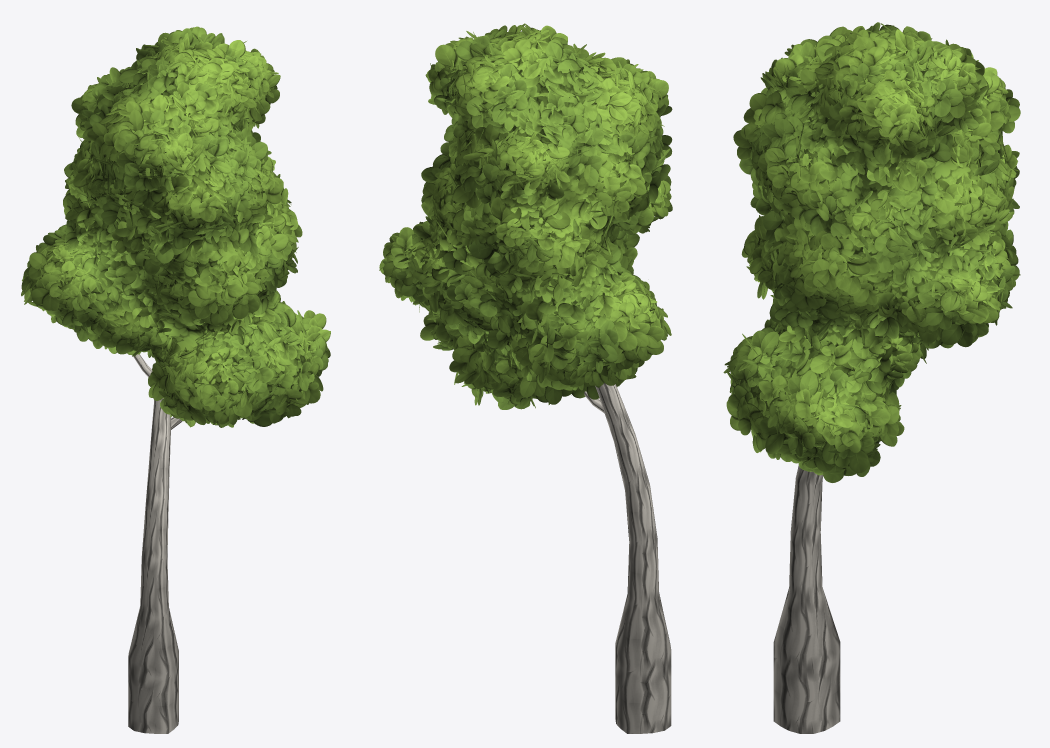
Rendered from birch_v2.glb.
3 views of the same model, side by side, from view 1: azimuth 30°, elevation 25°; view 2: azimuth 150°, elevation 25°; view 3: azimuth 270°, elevation 25° (orthographic). The views are drawn at different scales.
Visible parts, largest first — view 1: birch_v2_leaves_LOD0, birch_v2_volume_LOD0, birch_v2_trunk_LOD0; view 2: birch_v2_leaves_LOD0, birch_v2_volume_LOD0, birch_v2_trunk_LOD0; view 3: birch_v2_leaves_LOD0, birch_v2_volume_LOD0, birch_v2_trunk_LOD0.
Boxes of the visible parts, x1,y1,x2,y2 form: birch_v2_leaves_LOD0: [21, 26, 330, 427]; birch_v2_volume_LOD0: [39, 43, 311, 415]; birch_v2_trunk_LOD0: [128, 354, 182, 733]; birch_v2_leaves_LOD0: [379, 23, 672, 409]; birch_v2_volume_LOD0: [401, 35, 657, 390]; birch_v2_trunk_LOD0: [584, 383, 671, 733]; birch_v2_leaves_LOD0: [723, 22, 1020, 482]; birch_v2_volume_LOD0: [740, 35, 1005, 457]; birch_v2_trunk_LOD0: [773, 465, 840, 733].
Size of what is drawn, in the model's own units: 5.45 by 12.38 by 4.89.
3 materials, 3 textured.
